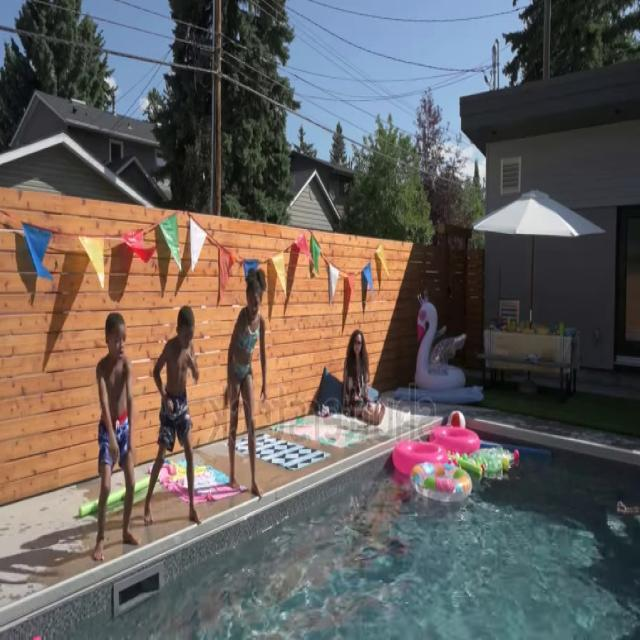adult: (343, 329, 385, 432)
child: (144, 308, 200, 524), (93, 313, 139, 565), (224, 271, 268, 501)
